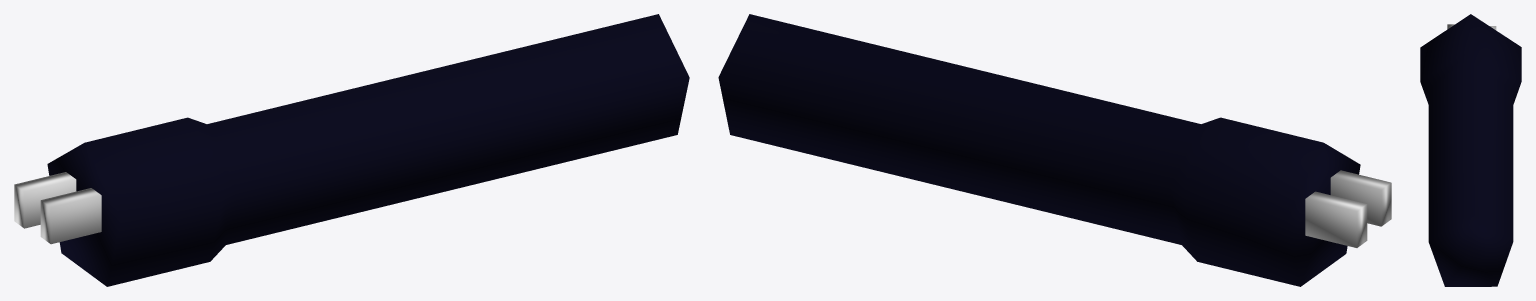
The model's file is PowerCord.fbx.
3 views of the same model, side by side, from view 1: azimuth 30°, elevation 25°; view 2: azimuth 150°, elevation 25°; view 3: azimuth 270°, elevation 25° (orthographic). The views are drawn at different scales.
Visible parts, largest first — view 1: Cylinder, Cube_001, Cube; view 2: Cylinder, Cube, Cube_001; view 3: Cylinder.
Boxes of the visible parts, bbox=[...] form: Cylinder: bbox=[47, 14, 689, 286]; Cube_001: bbox=[40, 188, 101, 244]; Cube: bbox=[14, 172, 76, 228]; Cylinder: bbox=[718, 14, 1360, 286]; Cube: bbox=[1305, 191, 1367, 247]; Cube_001: bbox=[1330, 170, 1391, 226]; Cylinder: bbox=[1420, 14, 1521, 286].
Size of the model in its own units: 2.77 by 0.5403 by 0.5674.
